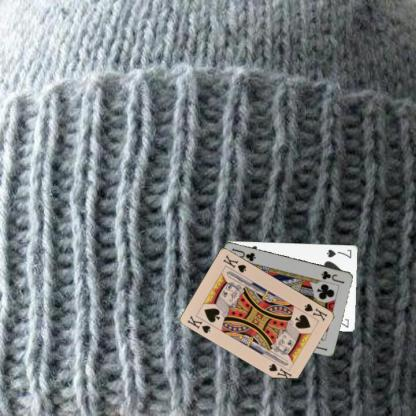7s: (324, 247, 353, 259)
Jc: (319, 268, 346, 286)
Ks: (185, 312, 212, 334), (301, 301, 328, 322)
